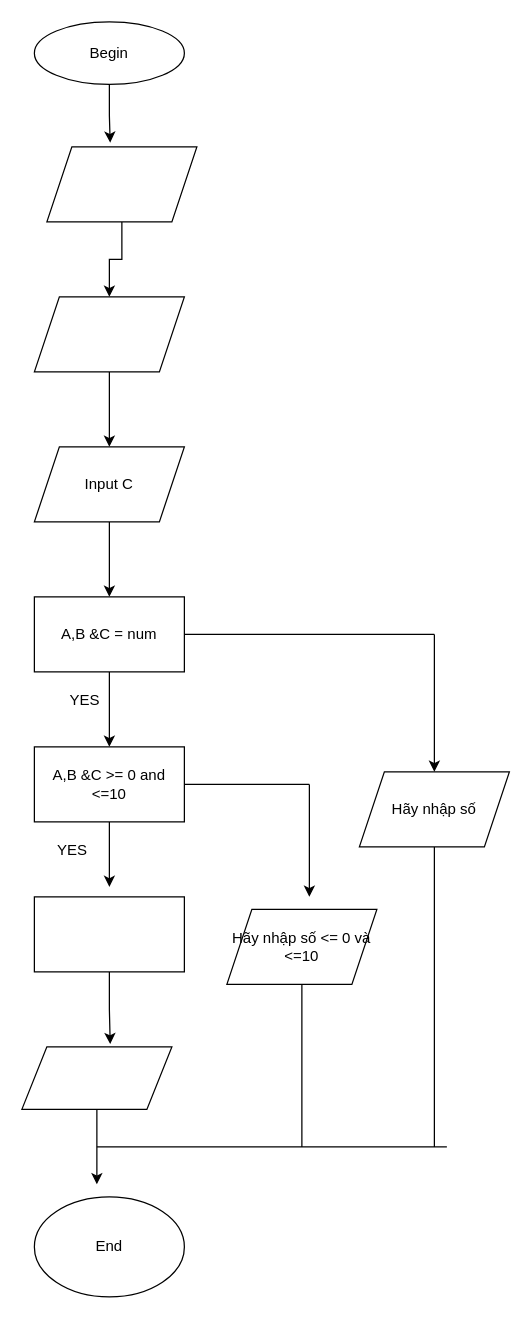
This 531x1329 diagram has some shape labels left out. The box of each missing label's shape, as (x1, y1, x2, y2) in pixels:
D = Average (A,B,C): (33, 896, 184, 972)
Display D: (21, 1046, 172, 1109)
Input A: (46, 146, 197, 222)
Input B: (33, 296, 184, 372)
